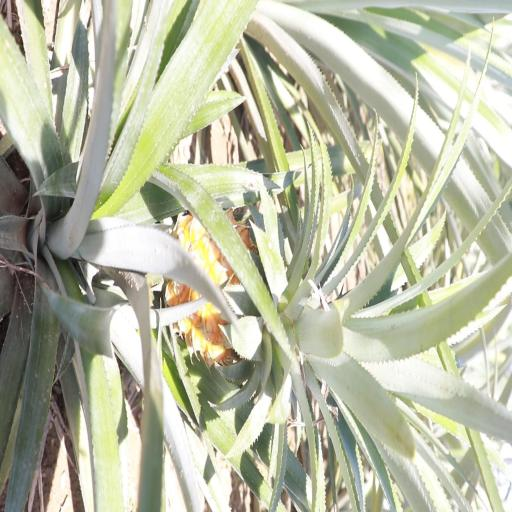Pineapple - v8 v1: (172, 208, 414, 382)
